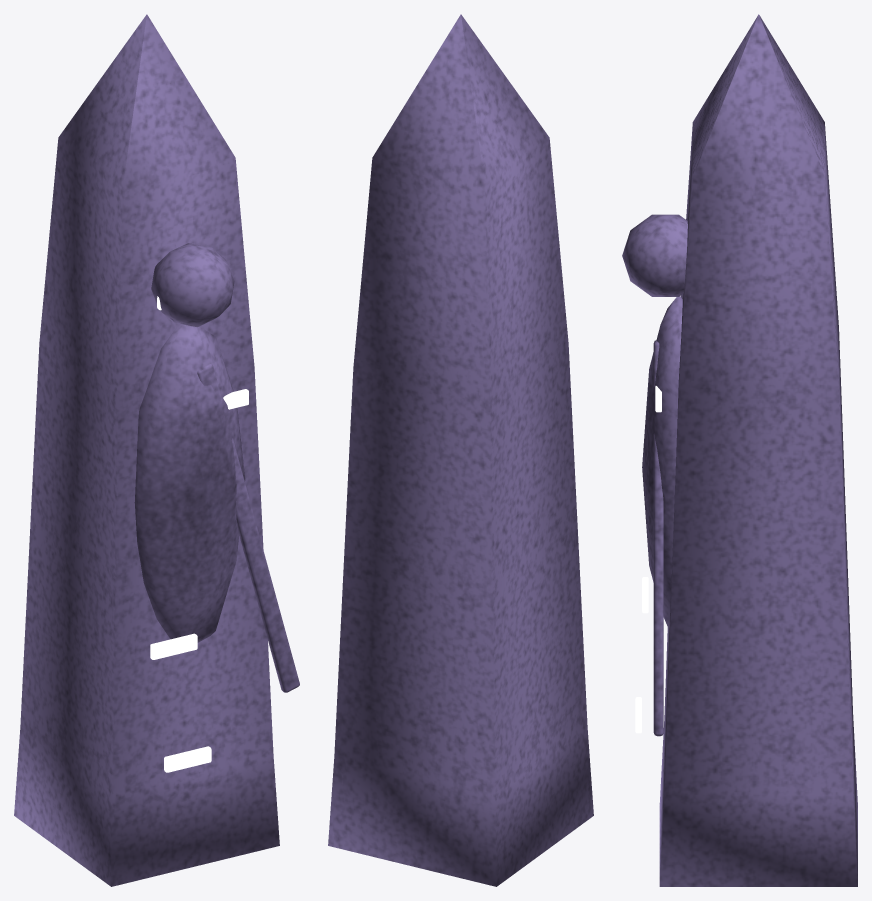
Rendered from Obelisk.fbx.
The picture shows the model from 3 angles, left to right: view 1: azimuth 30°, elevation 25°; view 2: azimuth 150°, elevation 25°; view 3: azimuth 270°, elevation 25°; orthographic projection.
Parts seen in each view (by area): view 1: Obelisk; view 2: Obelisk; view 3: Obelisk.
Part boxes in pixels (left/top/right/bottom): Obelisk: left=14, top=14, right=299, bottom=886; Obelisk: left=328, top=14, right=593, bottom=886; Obelisk: left=622, top=14, right=857, bottom=886.
Size of the model in its own units: 0.6587 by 2.75 by 0.707.
